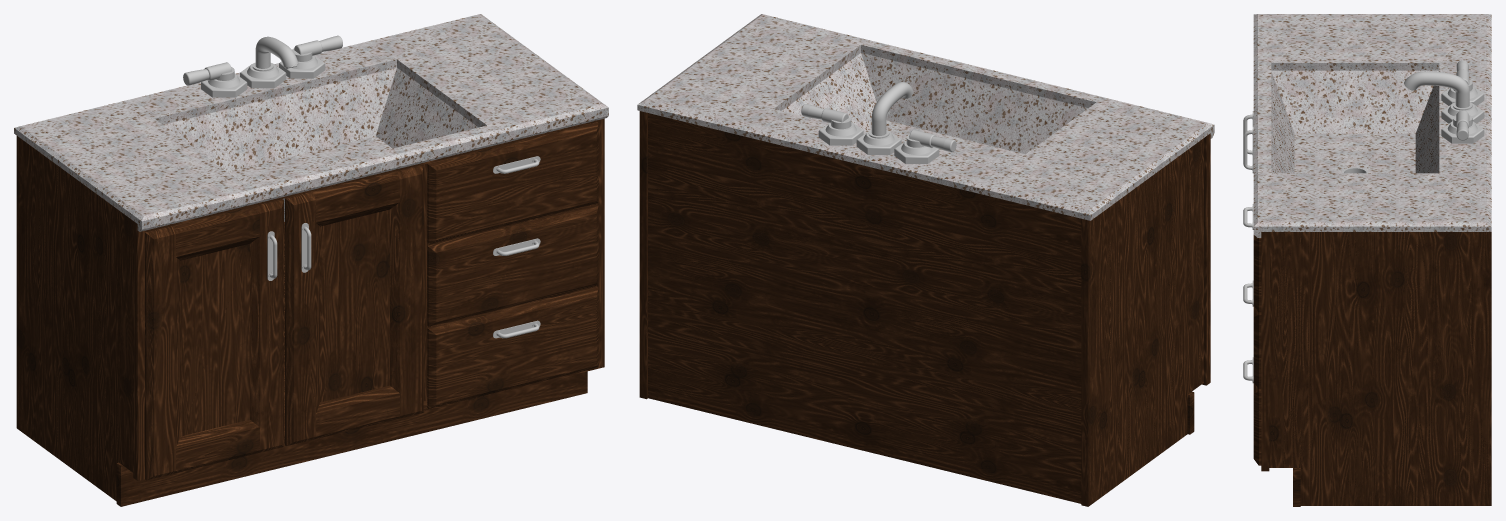
The model's file is vanity02.dae.
The picture shows the model from 3 angles, left to right: view 1: azimuth 30°, elevation 25°; view 2: azimuth 150°, elevation 25°; view 3: azimuth 270°, elevation 25°; orthographic projection. The views are drawn at different scales.
Parts seen in each view (by area): view 1: group_7 (×2), group_10 (×2), group_8 (×3), group_1, group_3, group_6, group_5, group_4, group_11; view 2: group_0, group_10 (×2), group_1 (×2), group_2, group_5, group_11; view 3: group_2, group_10 (×2), group_4, group_8 (×3), group_11 (×3), group_3.
Part boxes in pixels (<box>): group_7 (×2): <box>145,165,423,480</box>; group_10 (×2): <box>14,14,608,231</box>; group_8 (×3): <box>427,122,598,408</box>; group_1: <box>16,136,133,501</box>; group_3: <box>116,371,587,506</box>; group_6: <box>152,122,589,445</box>; group_5: <box>133,221,152,480</box>; group_4: <box>590,118,604,370</box>; group_11: <box>255,36,298,68</box>; group_0: <box>648,113,1081,503</box>; group_10 (×2): <box>637,14,1214,220</box>; group_1 (×2): <box>1081,138,1203,506</box>; group_2: <box>639,111,647,399</box>; group_5: <box>1202,133,1210,385</box>; group_11: <box>871,82,913,135</box>; group_2: <box>1269,232,1491,505</box>; group_10 (×2): <box>1253,14,1491,237</box>; group_4: <box>1261,232,1269,471</box>; group_8 (×3): <box>1253,235,1261,465</box>; group_11 (×3): <box>1404,71,1484,143</box>; group_3: <box>1293,468,1300,506</box>.
Size of the model in its own units: 48 by 23.73 by 34.67.
